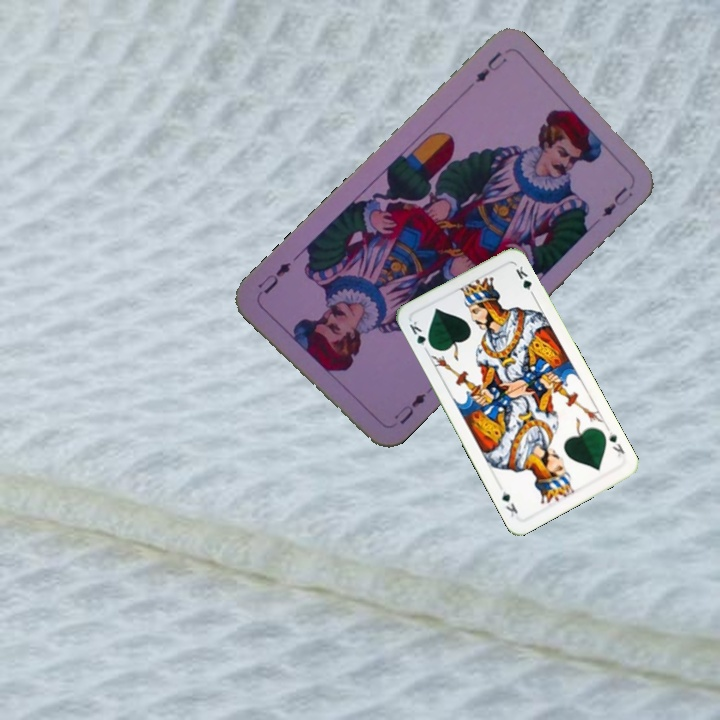EU: (470, 47, 510, 86), (389, 389, 429, 427)
GK: (405, 316, 435, 355), (605, 427, 628, 460)
